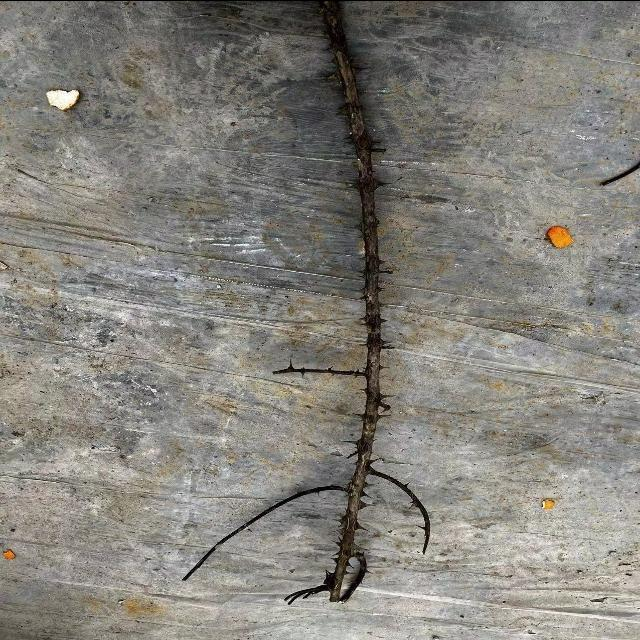branch: (324, 0, 383, 599)
